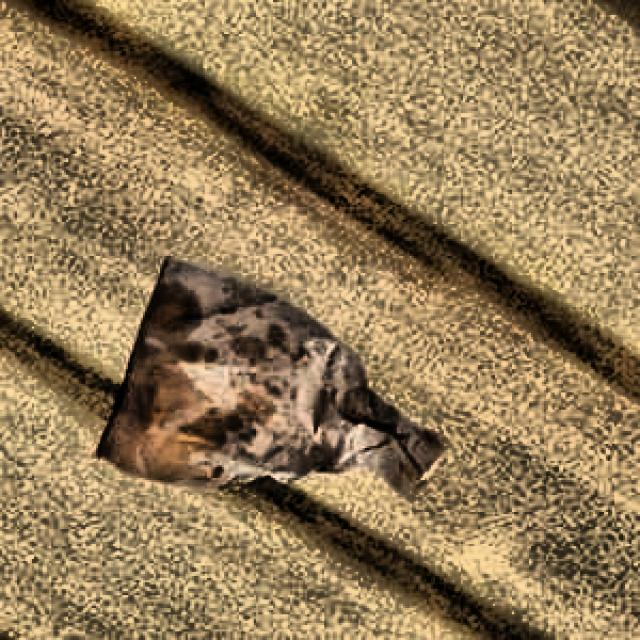Paper-bag: (73, 242, 472, 554)
